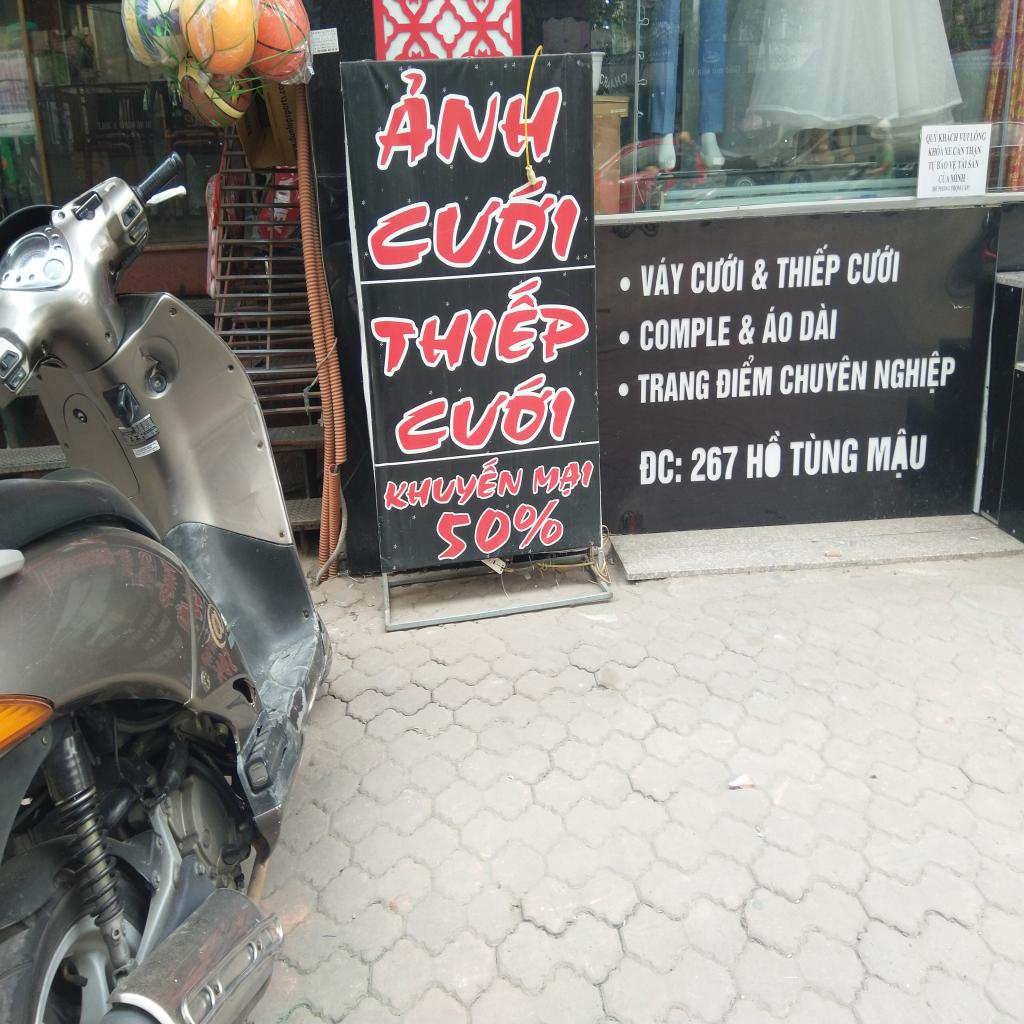text: (365, 273, 589, 385), (360, 61, 568, 172), (357, 178, 581, 274), (383, 373, 579, 461), (432, 498, 574, 568), (380, 452, 528, 517), (872, 349, 962, 402), (634, 310, 734, 356), (865, 424, 937, 485), (779, 354, 872, 399), (788, 428, 861, 485), (771, 240, 844, 296), (632, 367, 711, 409), (715, 356, 776, 404), (687, 252, 748, 299), (530, 456, 596, 498), (847, 244, 902, 292), (690, 440, 742, 490), (745, 426, 785, 486), (635, 254, 685, 300), (635, 445, 685, 490), (798, 301, 842, 345), (759, 303, 798, 349), (940, 127, 960, 143), (925, 128, 940, 144), (926, 155, 938, 175), (967, 142, 983, 156), (927, 144, 944, 156), (950, 170, 967, 182), (972, 130, 988, 142), (958, 128, 971, 142), (968, 156, 982, 168), (938, 172, 952, 184), (947, 157, 958, 171), (958, 156, 968, 170), (938, 158, 948, 170), (945, 146, 954, 156), (954, 146, 965, 153)
